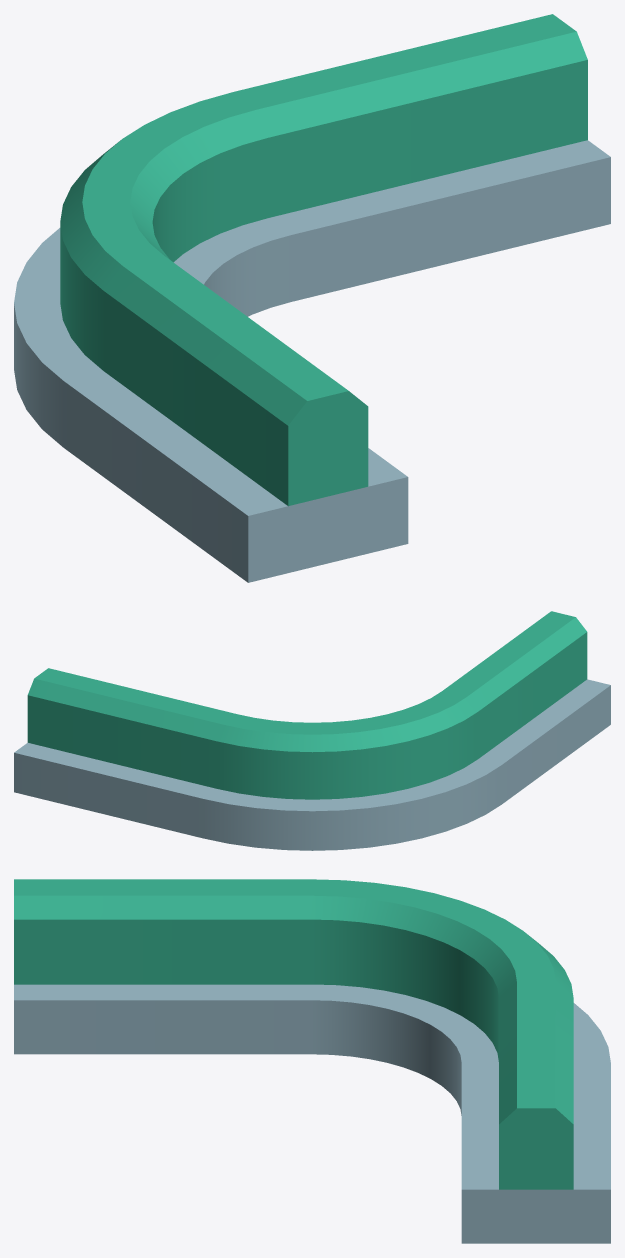
Rendered from hedgeCurved.dae.
The picture shows the model from 3 angles, top to bottom: view 1: azimuth 30°, elevation 25°; view 2: azimuth 150°, elevation 25°; view 3: azimuth 270°, elevation 25°; orthographic projection. The views are drawn at different scales.
Visible parts, largest first — view 1: hedgeCurved; view 2: hedgeCurved; view 3: hedgeCurved.
Part boxes in pixels (x1,y1,x2,y2): hedgeCurved: (14,14,610,582); hedgeCurved: (14,611,610,850); hedgeCurved: (14,879,610,1243).
Bounding box in the file's own units: 1 × 0.25 × 1.
